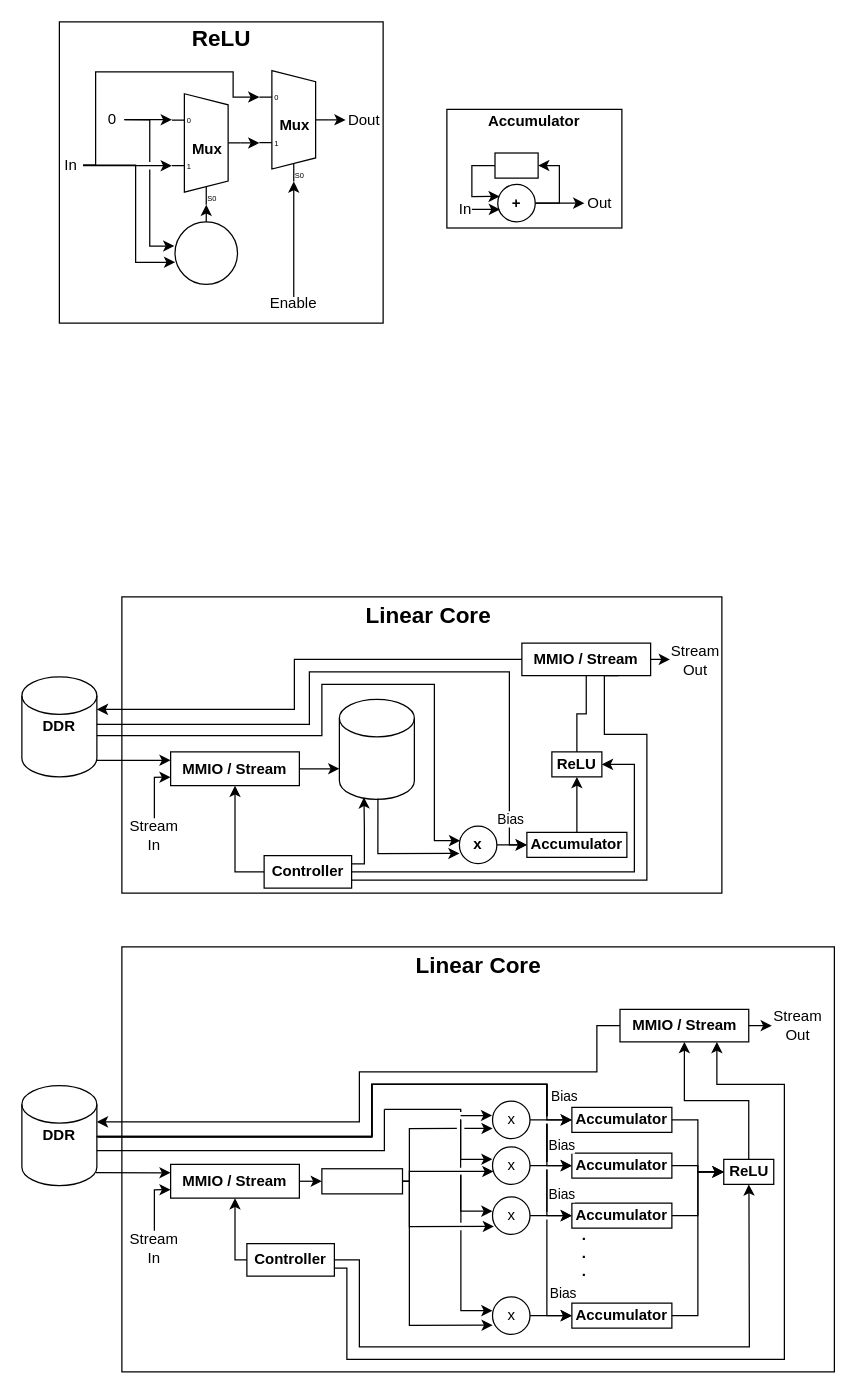
This 856x1394 diagram has some shape labels left out. Each missing label, with the box of its shape:
BRAM Inputs: (338, 698, 414, 799)
D0 > D1: (174, 221, 238, 284)
Input-Reg: (321, 1168, 402, 1194)
Reg: (494, 152, 538, 178)
